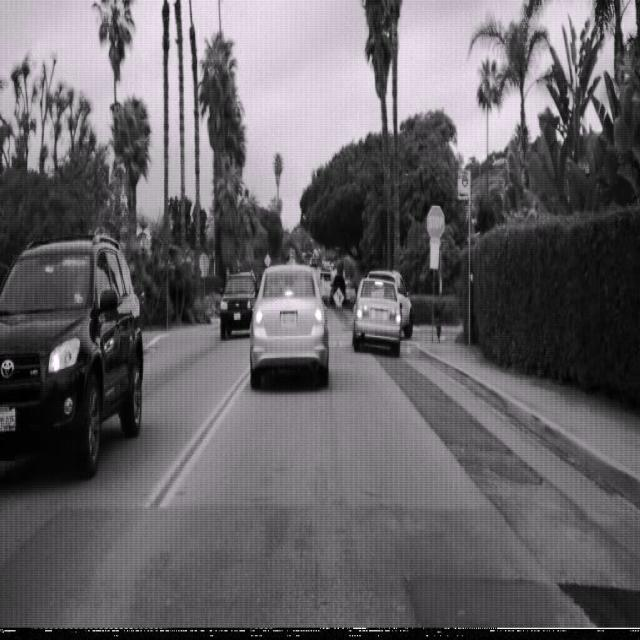stop_sign: (426, 203, 445, 240)
